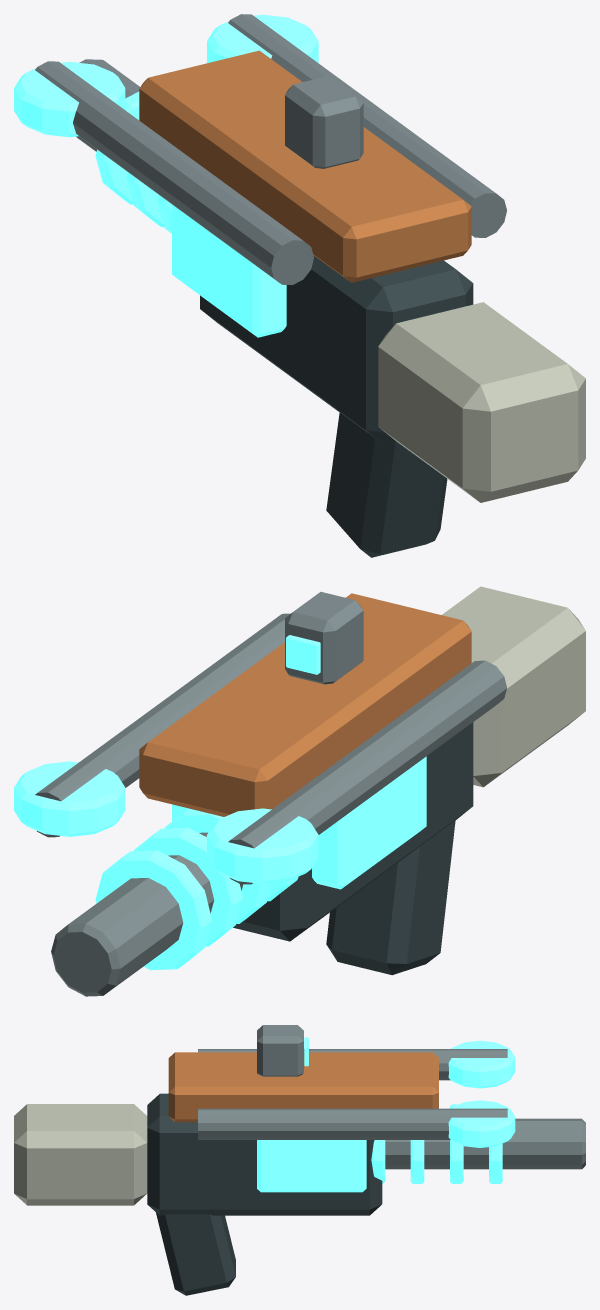
Rendered from lightning_rifle_t2.glb.
3 renders of one model, top to bottom at view 1: azimuth 30°, elevation 25°; view 2: azimuth 150°, elevation 25°; view 3: azimuth 270°, elevation 25°, orthographic. The views are drawn at different scales.
Parts seen in each view (by area): view 1: lightning_rifle_t2_Surface; view 2: lightning_rifle_t2_Surface; view 3: lightning_rifle_t2_Surface.
Boxes of the visible parts, <box> form: lightning_rifle_t2_Surface: <box>14,14,585,557</box>; lightning_rifle_t2_Surface: <box>14,586,585,996</box>; lightning_rifle_t2_Surface: <box>14,1025,585,1295</box>.
Size of the model in its own units: 0.54 by 0.7235 by 1.46.
Materials: 1 (1 with a texture image).
